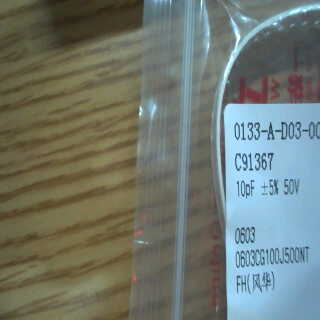10pF: (233, 175, 258, 202)
